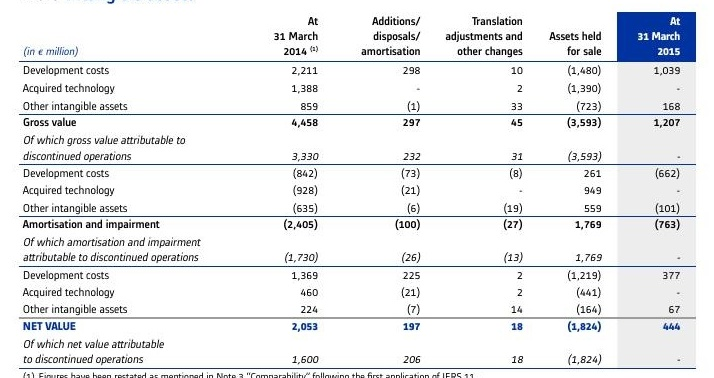table: (0, 0, 714, 378)
